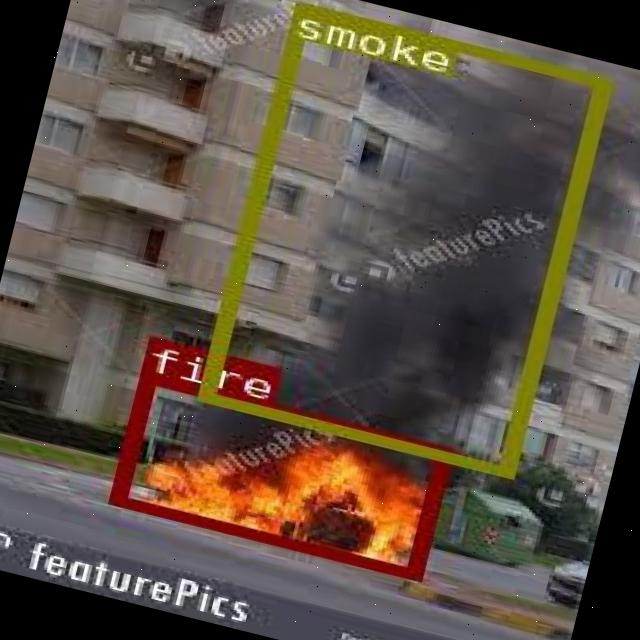fire: (108, 369, 448, 577)
smoke: (196, 0, 607, 474)
